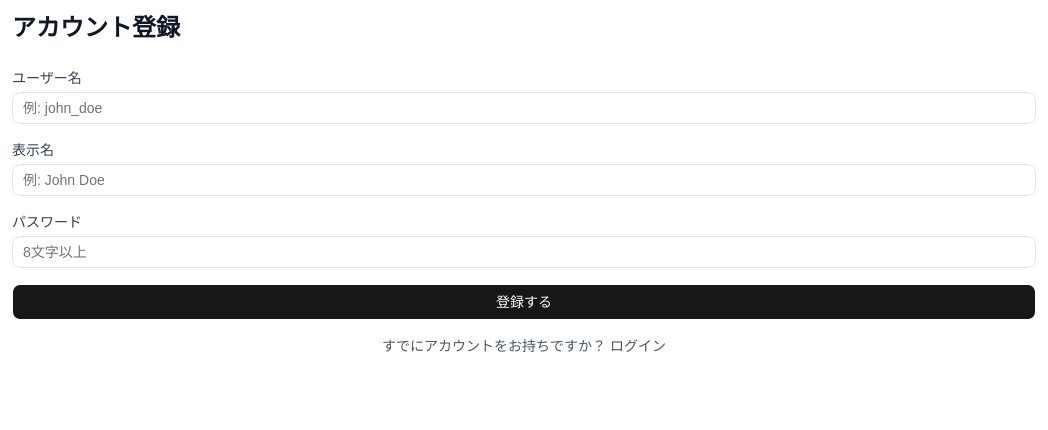
Test: RegisterForm › 3文字未満のusernameでバリデーションエラーが表示される
Type "ab" into the field with placeholder "例: john_doe".
click(524, 108); type("ab")  # box [12,92,1036,124]
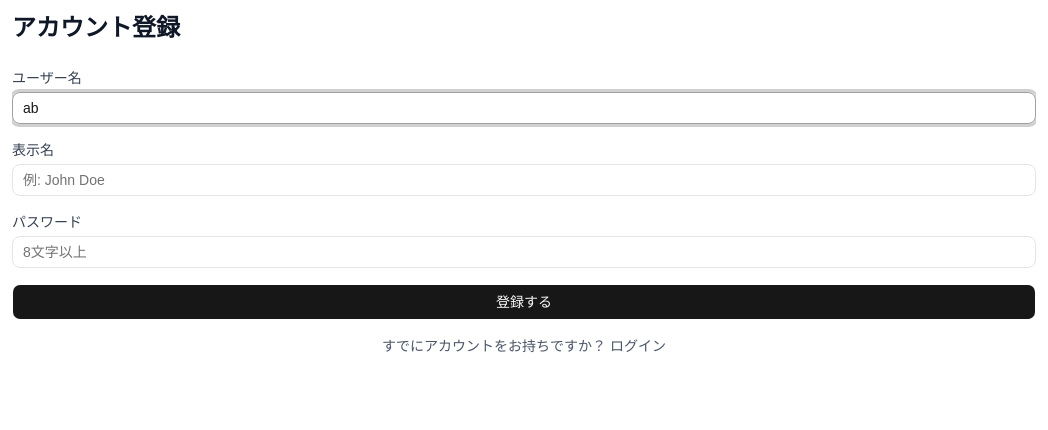
Click the button "登録する".
click(524, 302)  # box [12,284,1036,320]
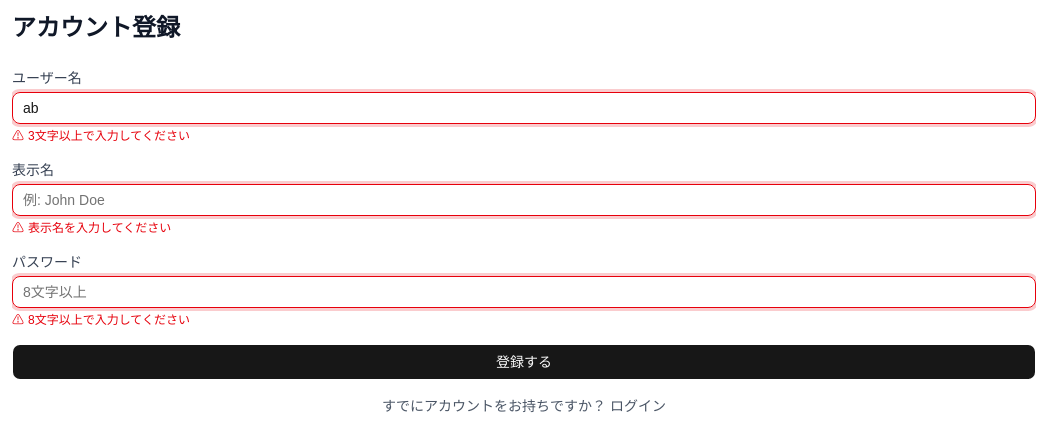
Expected: the text "3文字以上で入力してください" is shown, [28,129,190,143]
